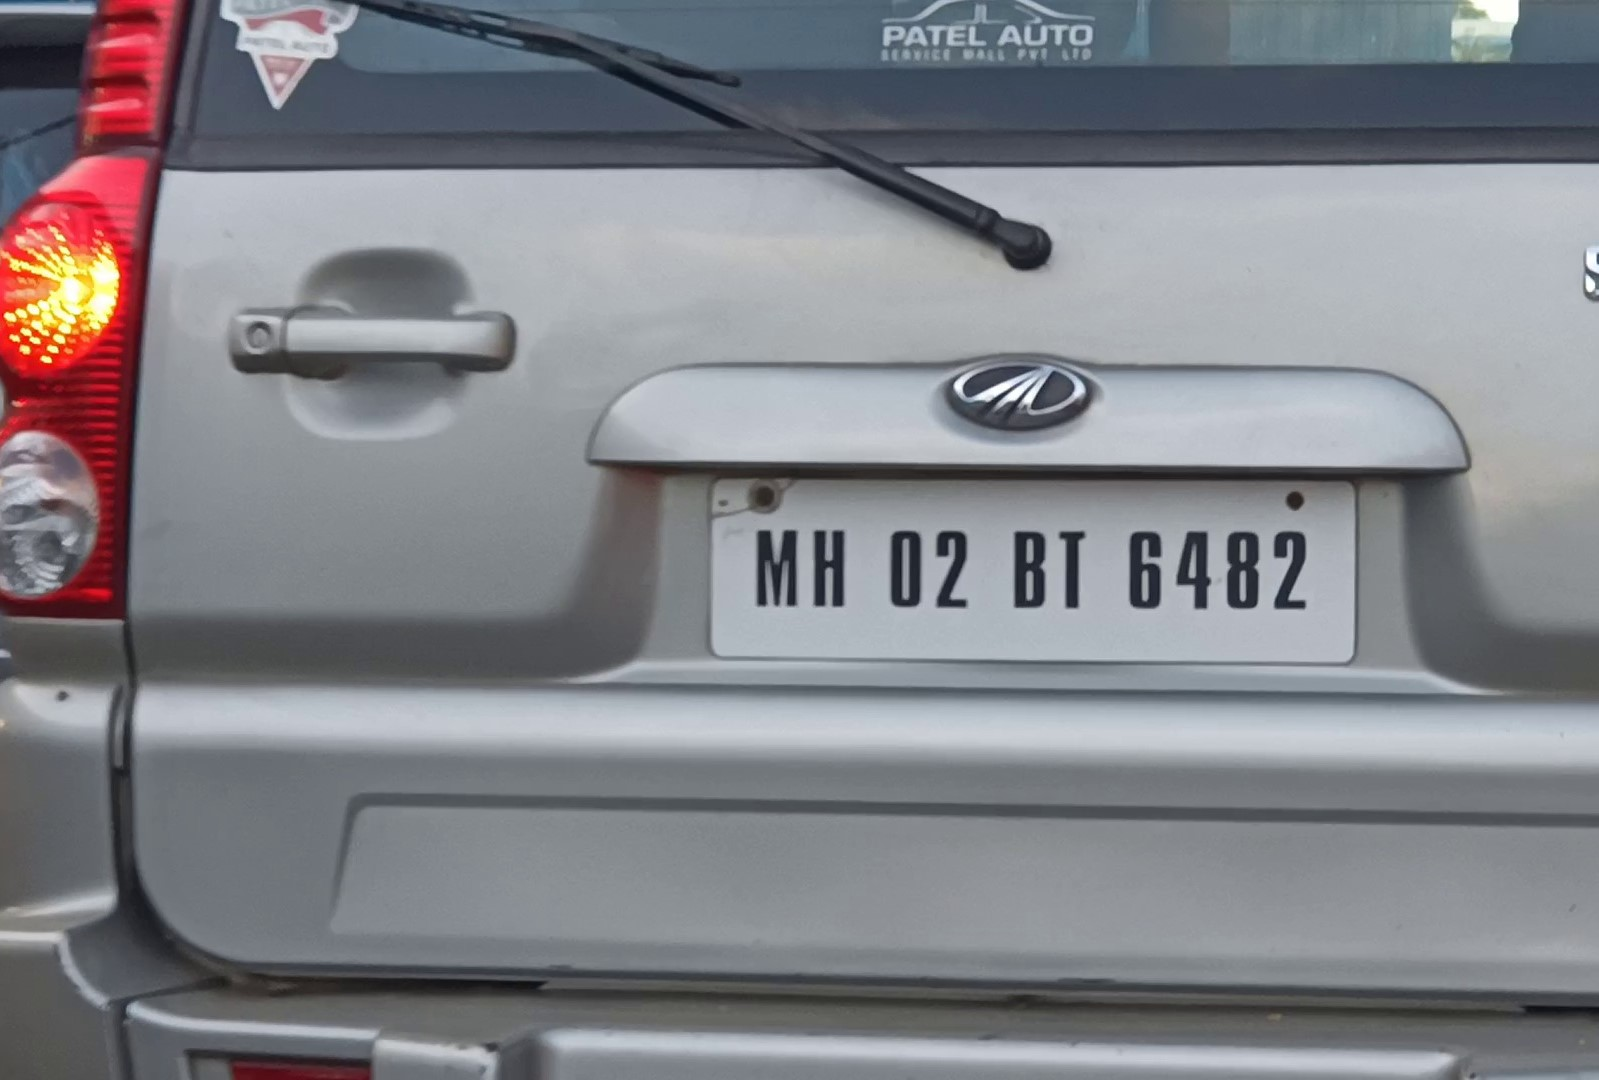MH02BT6482: (711, 475, 1360, 661)
